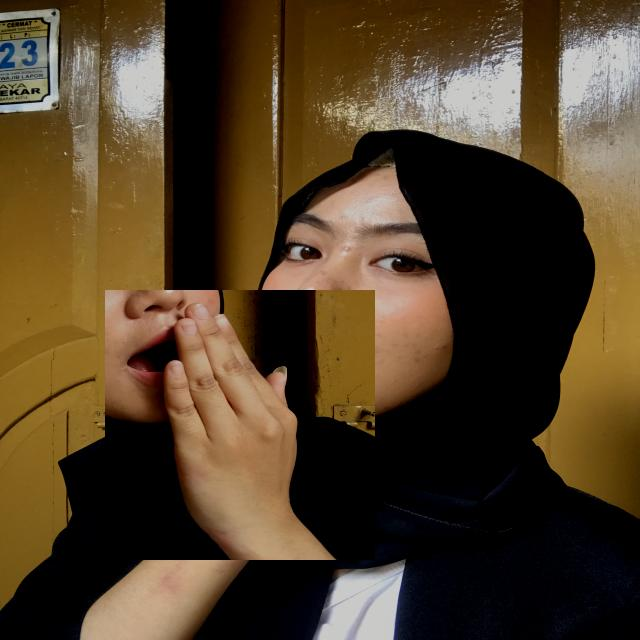ngantuk: (105, 290, 375, 560)
